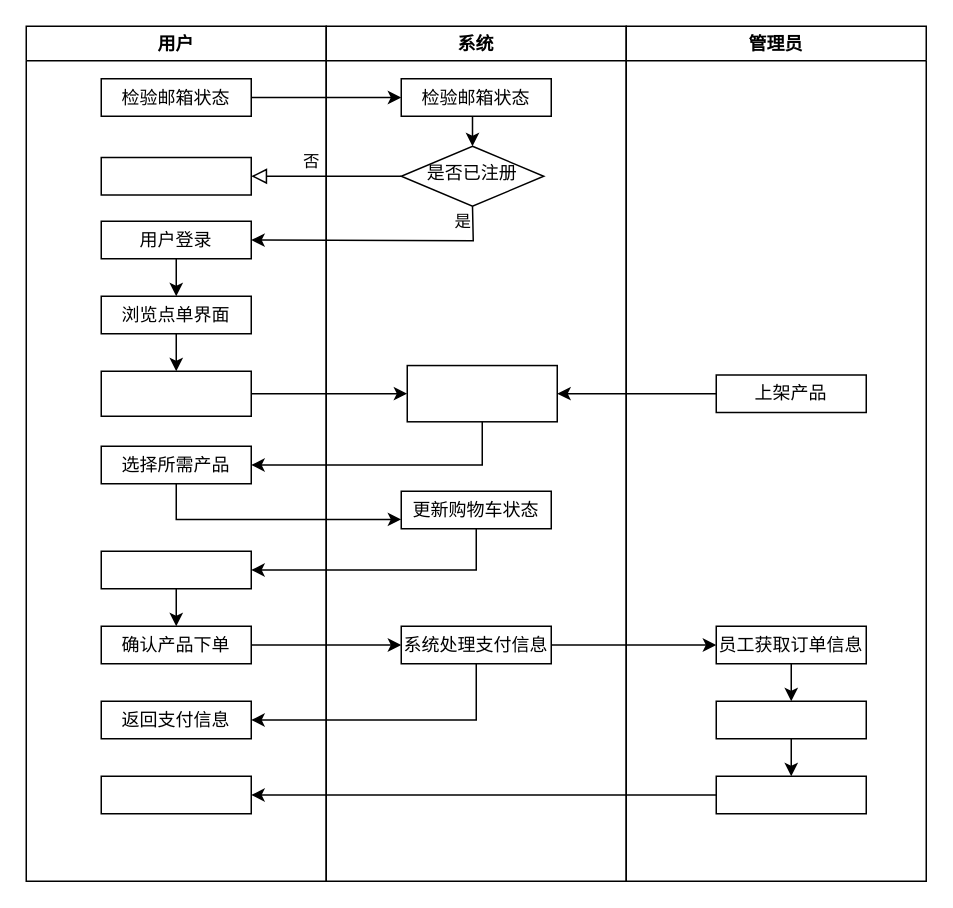
Image size: 953x908. Some labels were removed from this diagram. The centre of each missing label's shape, as x and y in pixels:
"发送验证码" goes at (175,175).
"员工开始制作" goes at (790,719).
"更新订单状态" goes at (790,794).
"检索符合条件 的产品" goes at (481,393).
"用户查看订单状态" goes at (175,794).
"用户查看购物车" goes at (175,569).
"输入相关内容进行咖啡种类搜索" goes at (175,393).
